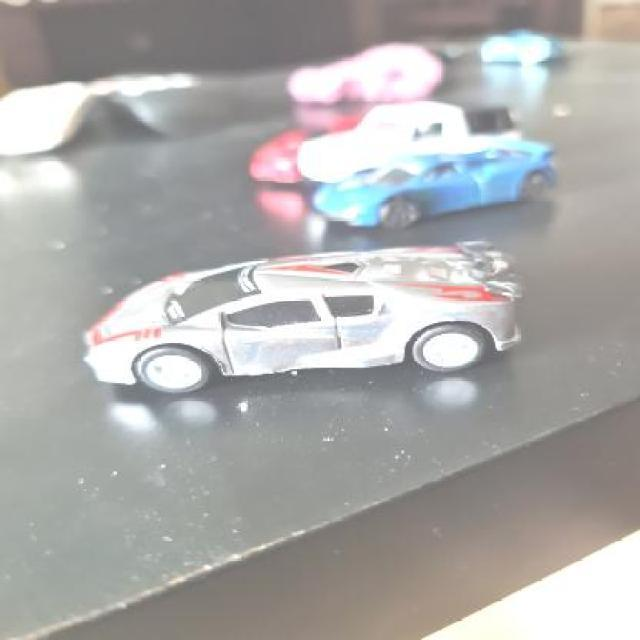car: (82, 246, 530, 394), (313, 139, 567, 232), (297, 96, 520, 179), (482, 28, 564, 68)
